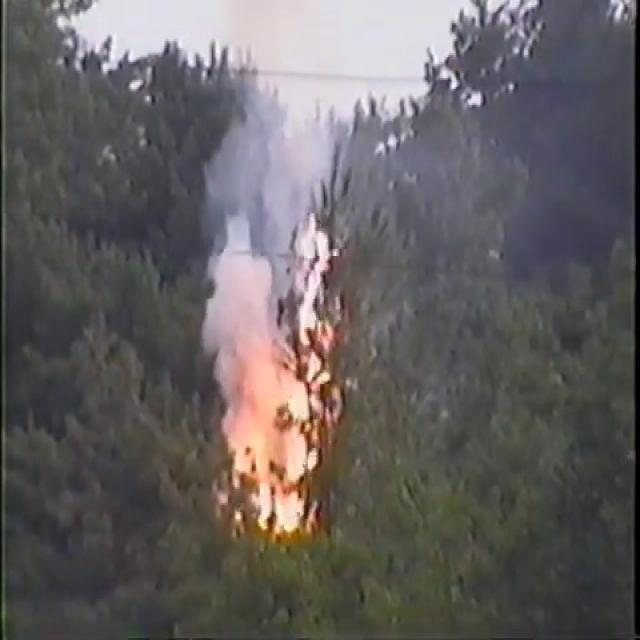Fire: (220, 368, 311, 540)
Smoke: (196, 2, 344, 384)
